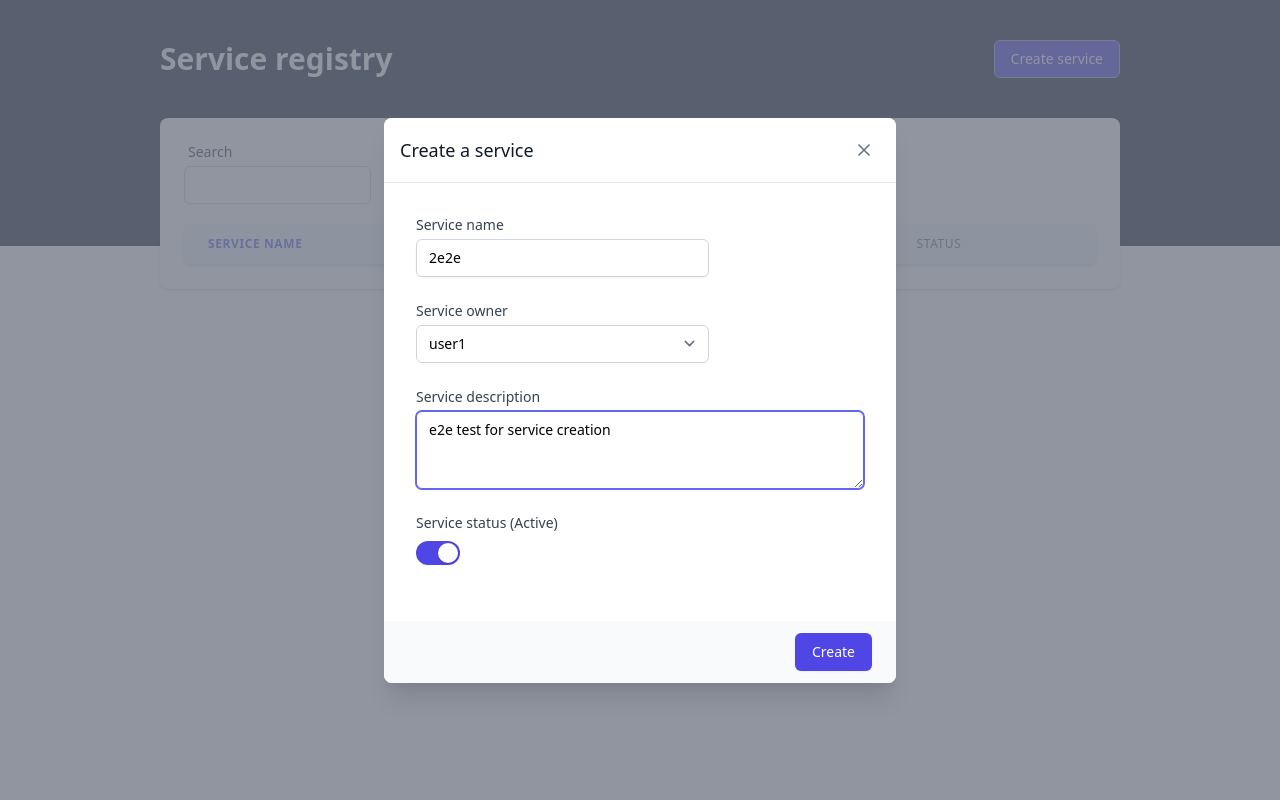
Test: Create test service 2 › Sets service to inactive
Click the button with id "status" at {"x": 438, "y": 553}, box x1=416 y1=541 x2=460 y2=565
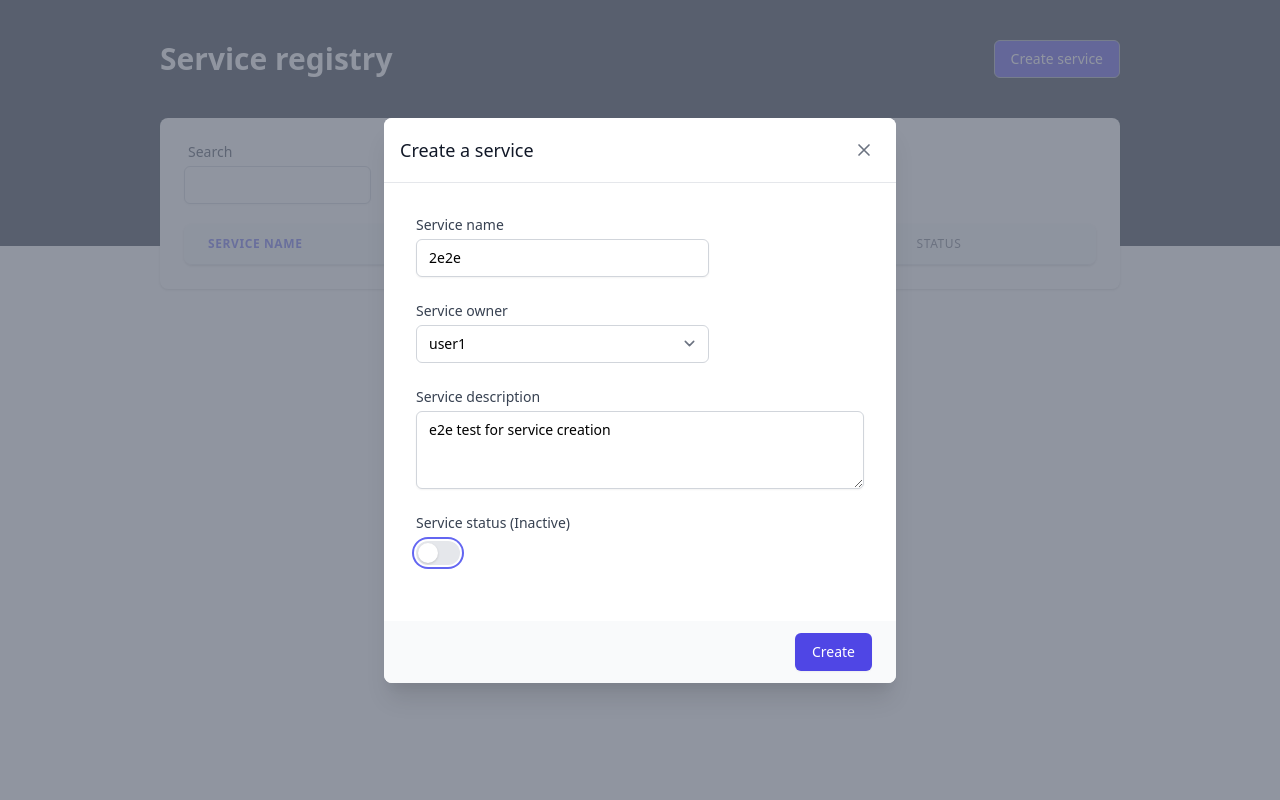
Now the text "(Inactive)" is shown, box x1=416 y1=513 x2=570 y2=532
